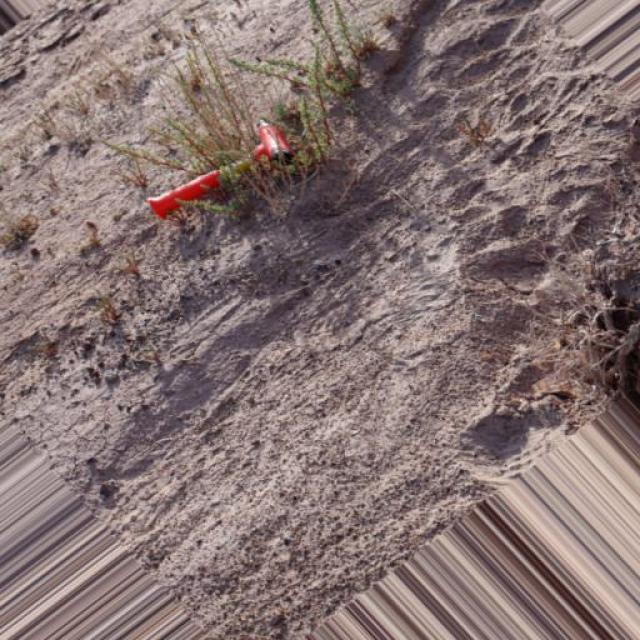mallet: (145, 118, 294, 220)
